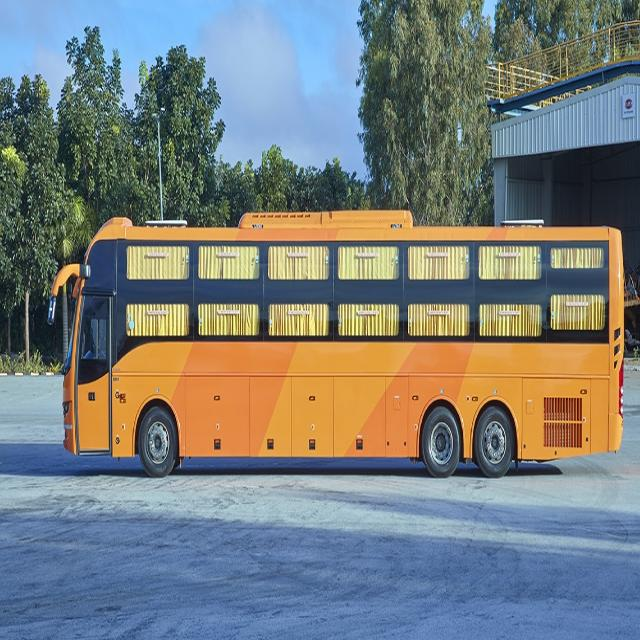bus: (52, 210, 624, 476)
